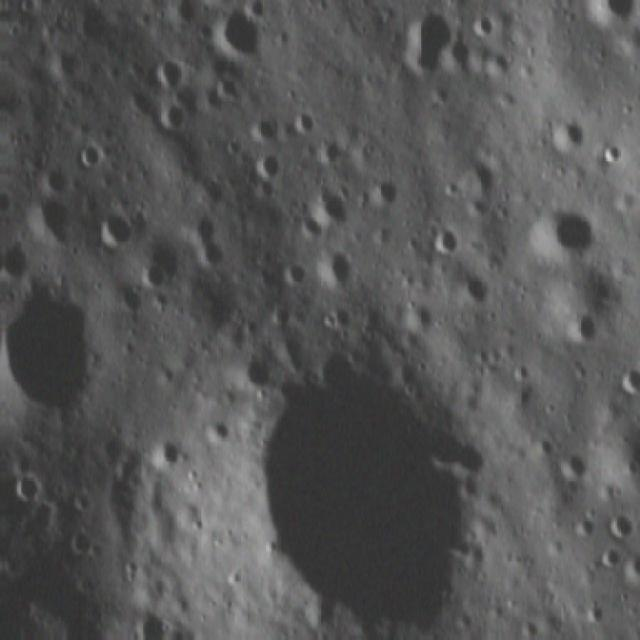crater: (227, 329, 485, 631), (0, 285, 92, 417), (400, 5, 463, 81), (528, 199, 595, 264), (208, 5, 272, 61), (300, 178, 348, 230), (92, 207, 140, 255), (311, 243, 354, 294), (548, 443, 592, 492), (546, 114, 588, 160), (26, 198, 72, 239), (560, 310, 600, 352), (178, 208, 219, 247), (148, 55, 188, 94), (237, 348, 274, 390), (428, 219, 466, 259), (12, 465, 48, 506), (108, 278, 144, 318), (240, 106, 278, 143), (454, 270, 494, 305), (150, 100, 187, 137), (145, 436, 183, 472), (604, 506, 636, 546), (368, 177, 404, 212), (38, 160, 72, 195), (276, 258, 307, 296), (0, 242, 25, 287), (74, 140, 106, 174), (134, 258, 166, 292), (191, 242, 226, 273), (248, 150, 282, 181), (470, 10, 501, 44), (592, 544, 622, 574), (285, 109, 318, 136), (599, 138, 623, 172)
